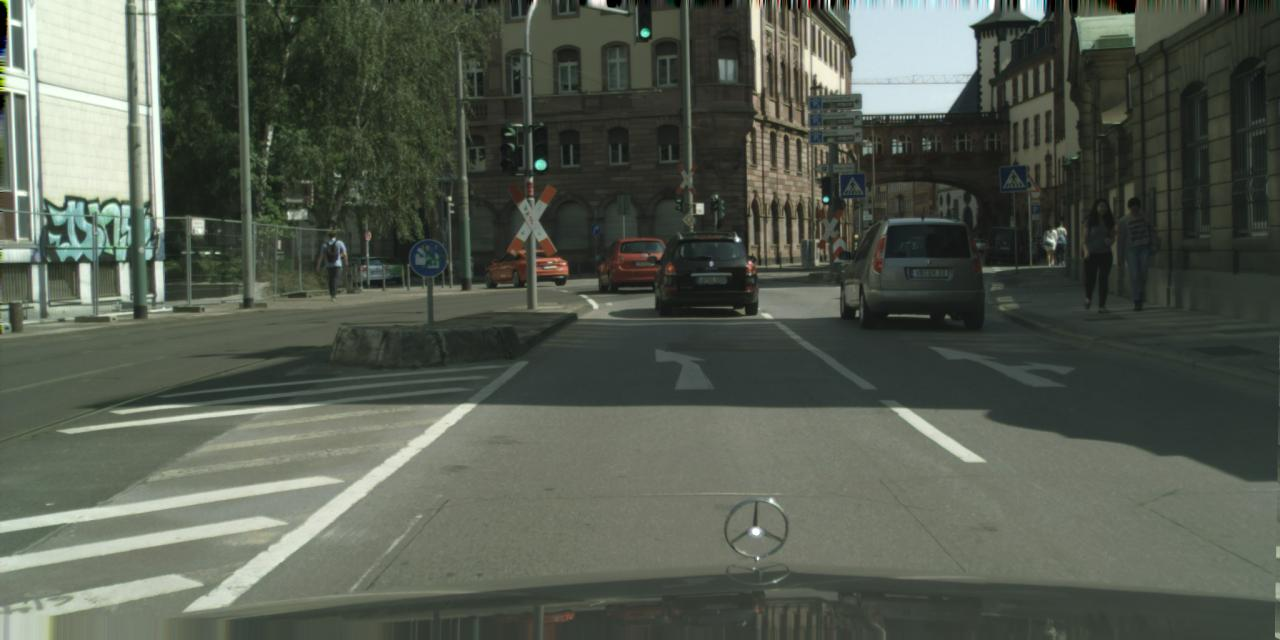ped: (1114, 197, 1160, 311), (1075, 198, 1121, 311), (318, 228, 348, 301), (1050, 220, 1070, 266), (1042, 224, 1060, 265)
